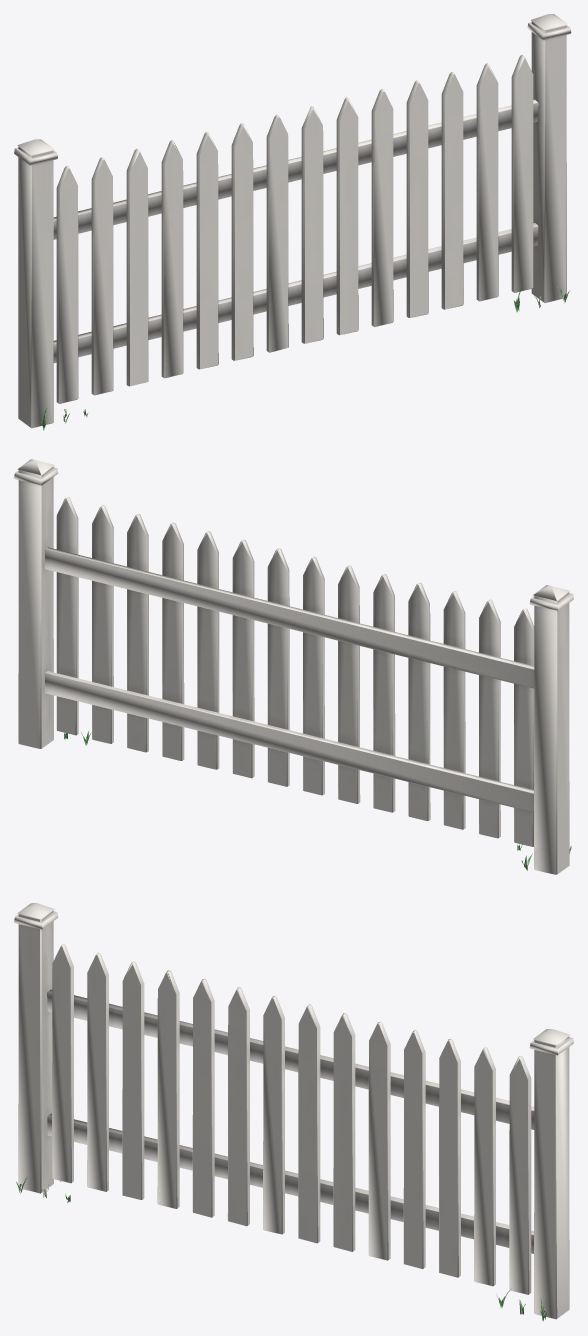
Rendered from picket-fence.glb.
3 views of the same model, one above another, from view 1: azimuth 30°, elevation 25°; view 2: azimuth 150°, elevation 25°; view 3: azimuth 330°, elevation 25° (orthographic).
Parts seen in each view (by area): view 1: picket-fence_body; view 2: picket-fence_body; view 3: picket-fence_body.
Boxes of the visible parts, box(x1,y1,x2,y2) form: picket-fence_body: box(14, 14, 571, 430); picket-fence_body: box(14, 459, 573, 874); picket-fence_body: box(14, 903, 573, 1321).
Bounding box in the file's own units: 2.11 × 1.05 × 0.1939.
Materials: 1 (1 with a texture image).
